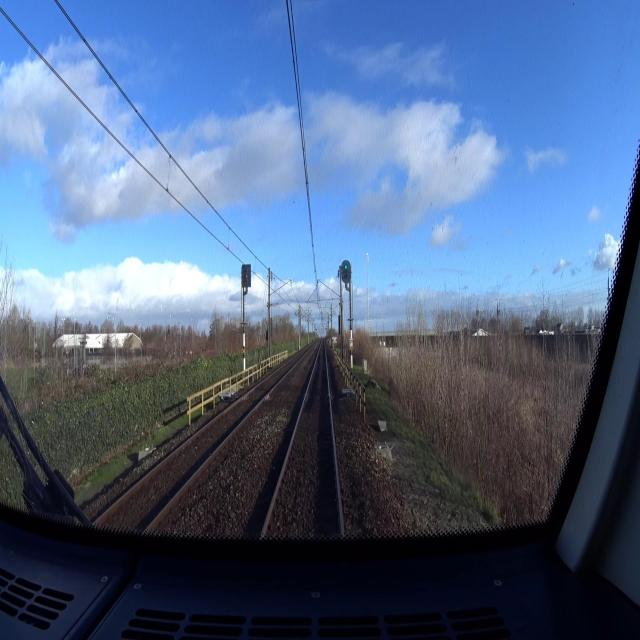rail-track: (103, 357, 298, 532), (265, 343, 341, 539)
